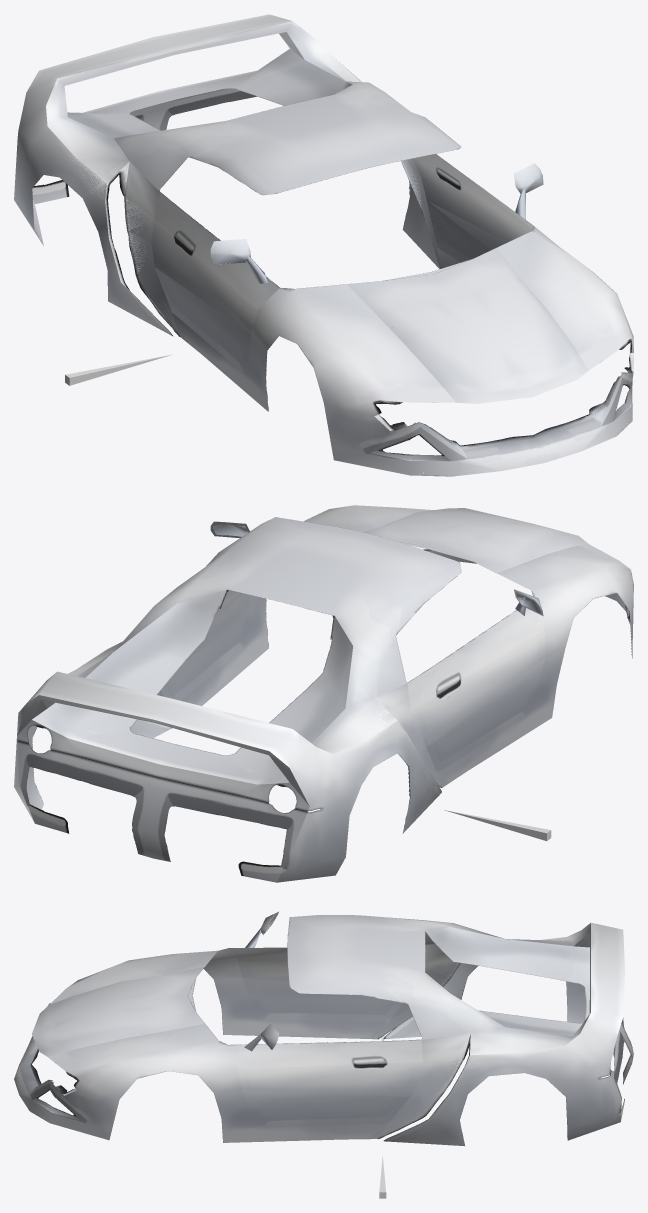
Rendered from Minari.FBX.
The picture shows the model from 3 angles, top to bottom: view 1: azimuth 30°, elevation 25°; view 2: azimuth 150°, elevation 25°; view 3: azimuth 270°, elevation 25°; orthographic projection. The views are drawn at different scales.
Visible parts, largest first — view 1: Minari3BodyDoorCut, Minari1BodyLores, DoorR, DoorL, MirrorR, MirrorL, EnterR; view 2: Minari3BodyDoorCut, Minari1BodyLores, DoorR, DoorL, EnterR, MirrorL; view 3: Minari3BodyDoorCut, Minari1BodyLores, DoorL, DoorR, MirrorL.
Boxes of the visible parts, x1,y1,x2,y2 form: Minari3BodyDoorCut: (14, 14, 633, 476); Minari1BodyLores: (69, 125, 599, 357); DoorR: (153, 192, 279, 372); DoorL: (412, 154, 533, 262); MirrorR: (210, 239, 267, 283); MirrorL: (514, 163, 543, 219); EnterR: (65, 354, 171, 385); Minari3BodyDoorCut: (14, 505, 633, 882); Minari1BodyLores: (186, 507, 600, 770); DoorR: (407, 608, 544, 772); DoorL: (161, 590, 249, 700); EnterR: (444, 810, 551, 841); MirrorL: (210, 521, 249, 537); Minari3BodyDoorCut: (14, 915, 633, 1145); Minari1BodyLores: (119, 947, 461, 1114); DoorL: (230, 1040, 423, 1127); DoorR: (235, 950, 402, 1022); MirrorL: (244, 1023, 279, 1051).
Size of what is drawn, in the model's own units: 316 by 131 by 451.
